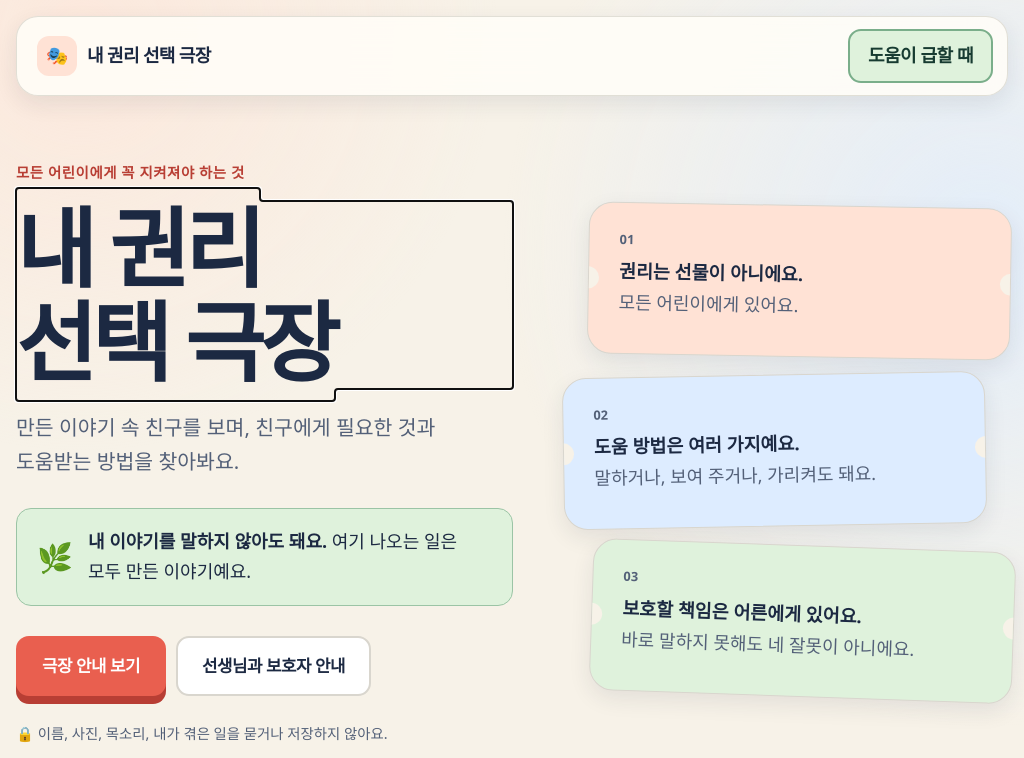
Test case: 초등 저학년 학생 사용성 › 쉬운 권리 이름과 네 개 이하의 도움 카드를 보여 준다
This screenshot has width=1024, height=758.
What coordinates should you click on to do the following:
click the button "극장 안내 보기"
I would click on:
 (91, 666)
Its box is x1=16 y1=636 x2=166 y2=696.
(page scrolled)
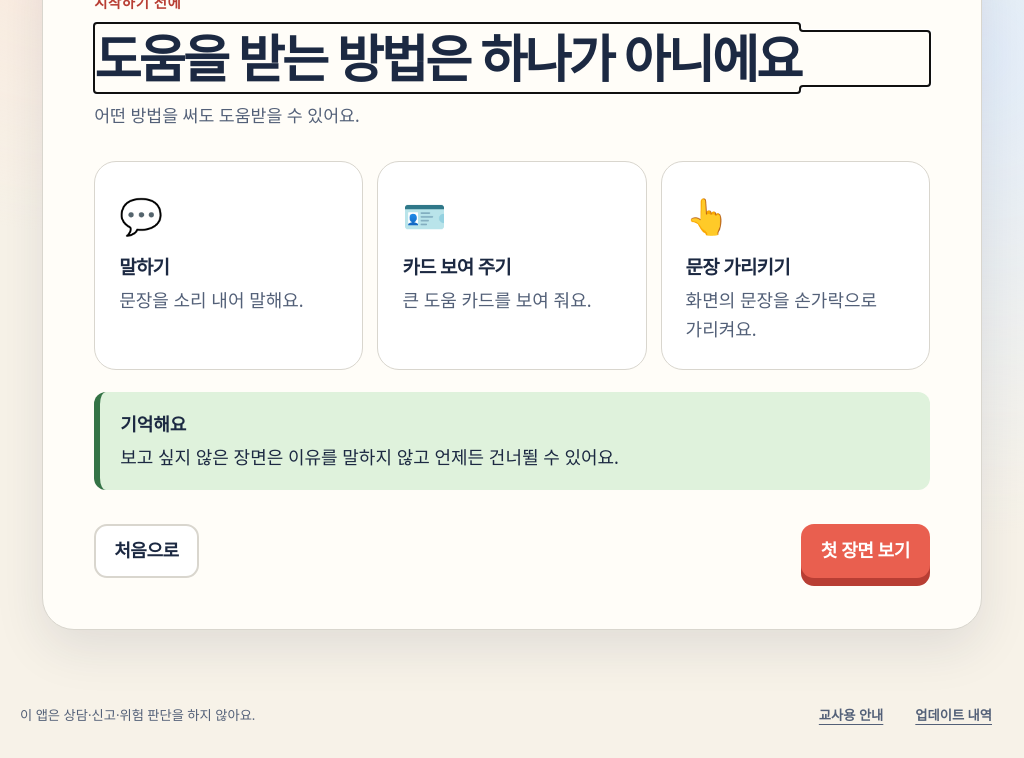
What coordinates should you click on to do the following:
click the button "첫 장면 보기"
I would click on:
 (865, 551)
Its box is x1=801 y1=524 x2=930 y2=578.
(page scrolled)
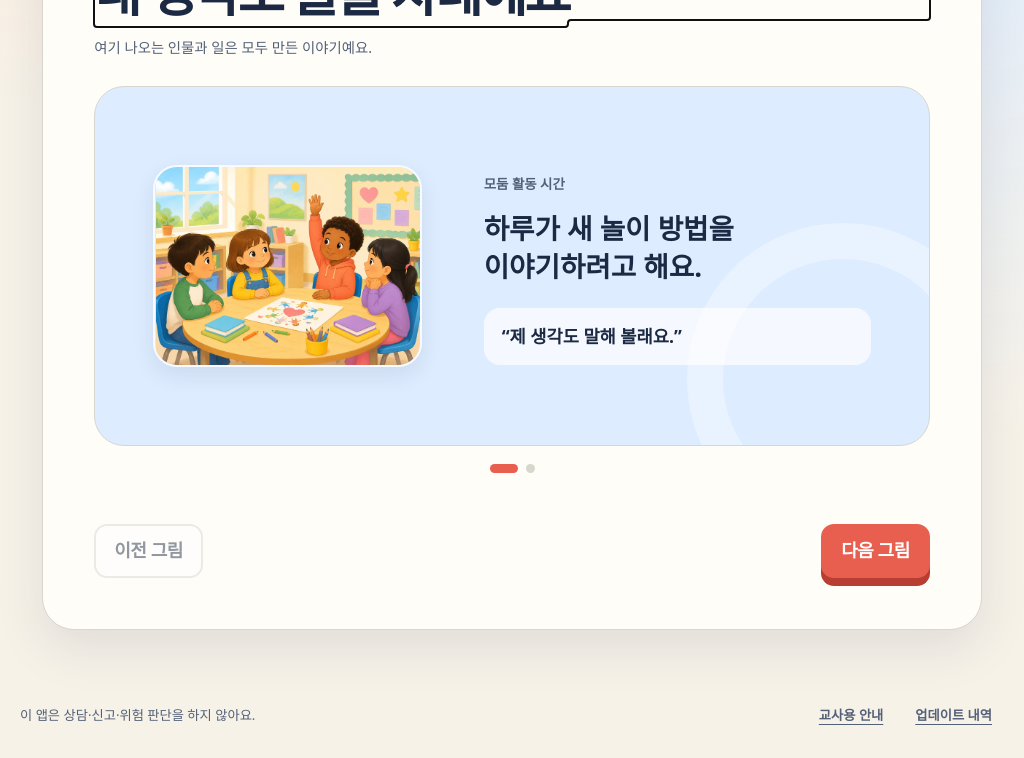
What coordinates should you click on to do the following:
click the button "다음 그림"
I would click on:
 (875, 551)
Its box is x1=821 y1=524 x2=930 y2=578.
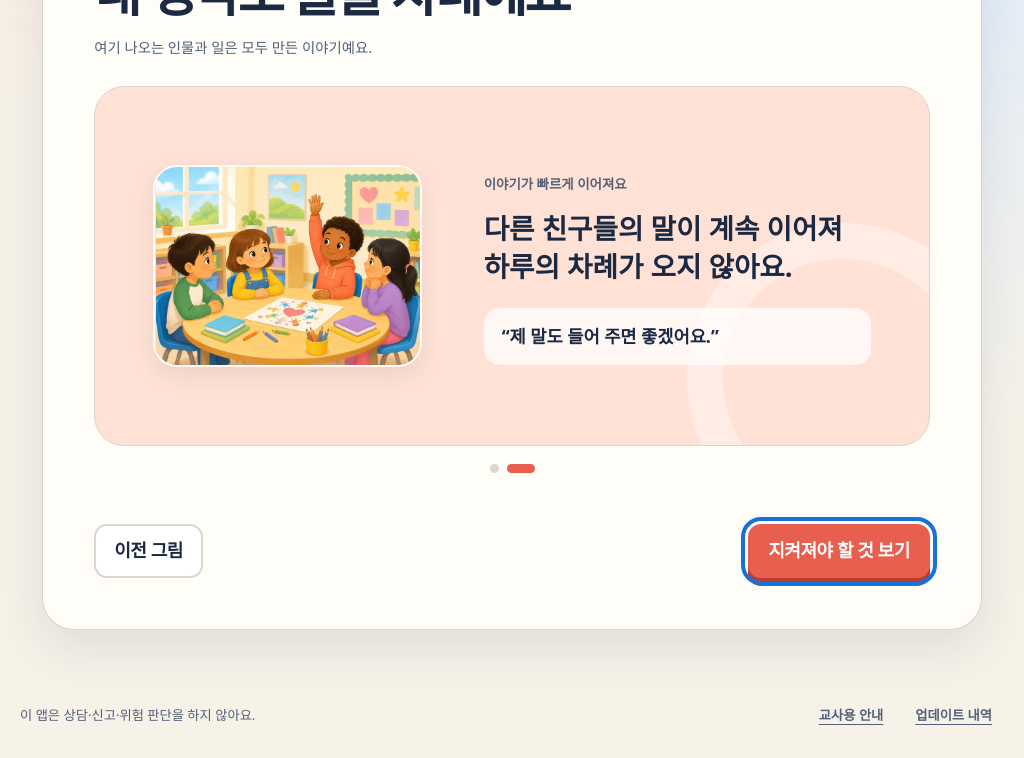
What coordinates should you click on to do the following:
click the button "지켜져야 할 것 보기"
I would click on:
 (839, 551)
Its box is x1=748 y1=524 x2=930 y2=578.
(page scrolled)
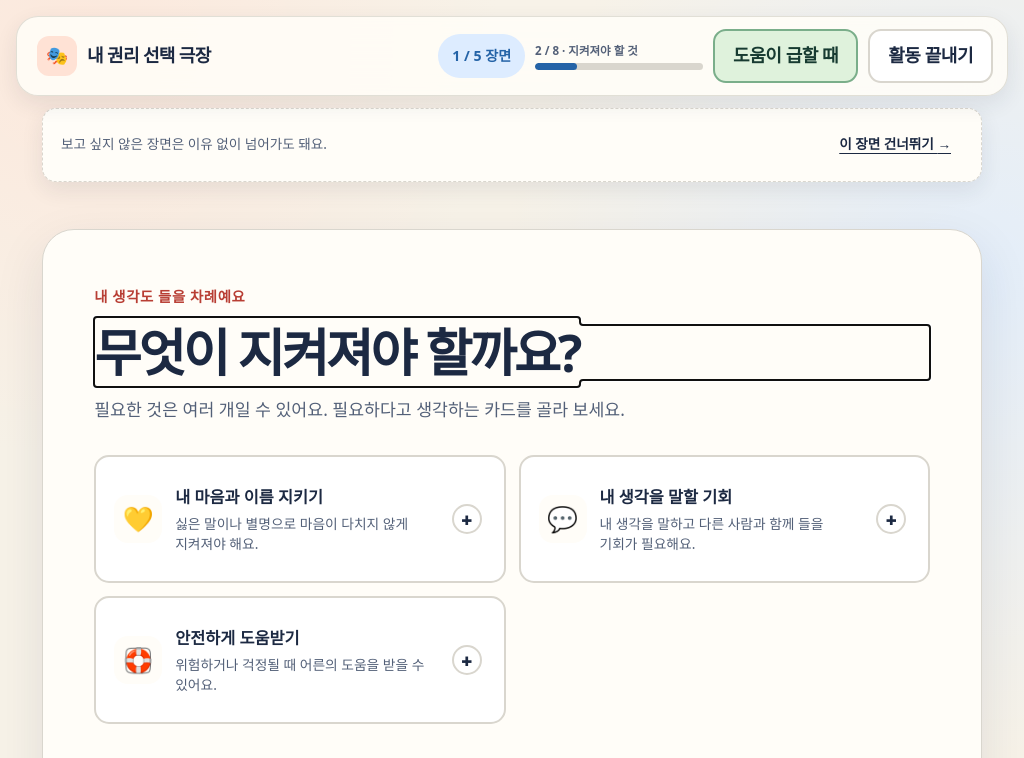
Now the button "💛 내 마음과 이름 지키기 싫은 말이나 별명으로 마음이 다치지 않게 지켜져야 해요. +" is shown, box x1=94 y1=455 x2=506 y2=583
Now the button "🛟 안전하게 도움받기 위험하거나 걱정될 때 어른의 도움을 받을 수 있어요. +" is shown, box x1=94 y1=596 x2=506 y2=724
What coordinates should you click on to do the following:
click the button "💬 내 생각을 말할 기회 내 생각을 말하고 다른 사람과 함께 들을 기회가 필요해요. +"
I would click on:
 (724, 519)
Its box is x1=518 y1=455 x2=930 y2=583.
(page scrolled)
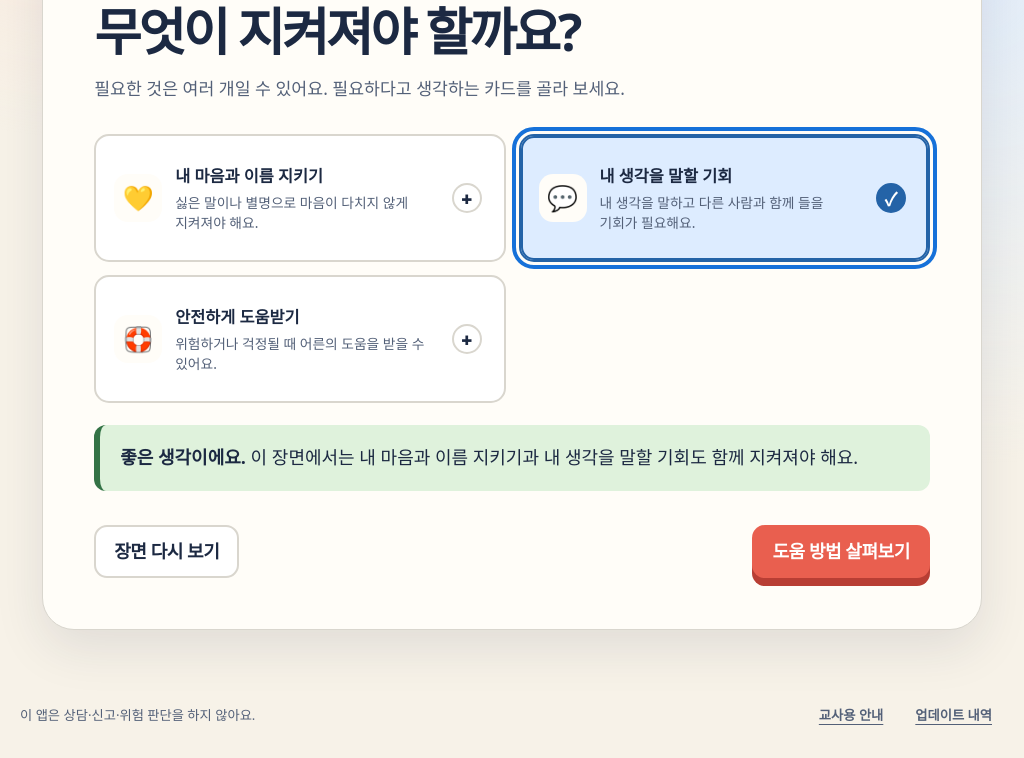
What coordinates should you click on to do the following:
click the button "도움 방법 살펴보기"
I would click on:
 (841, 551)
Its box is x1=752 y1=525 x2=930 y2=578.
(page scrolled)
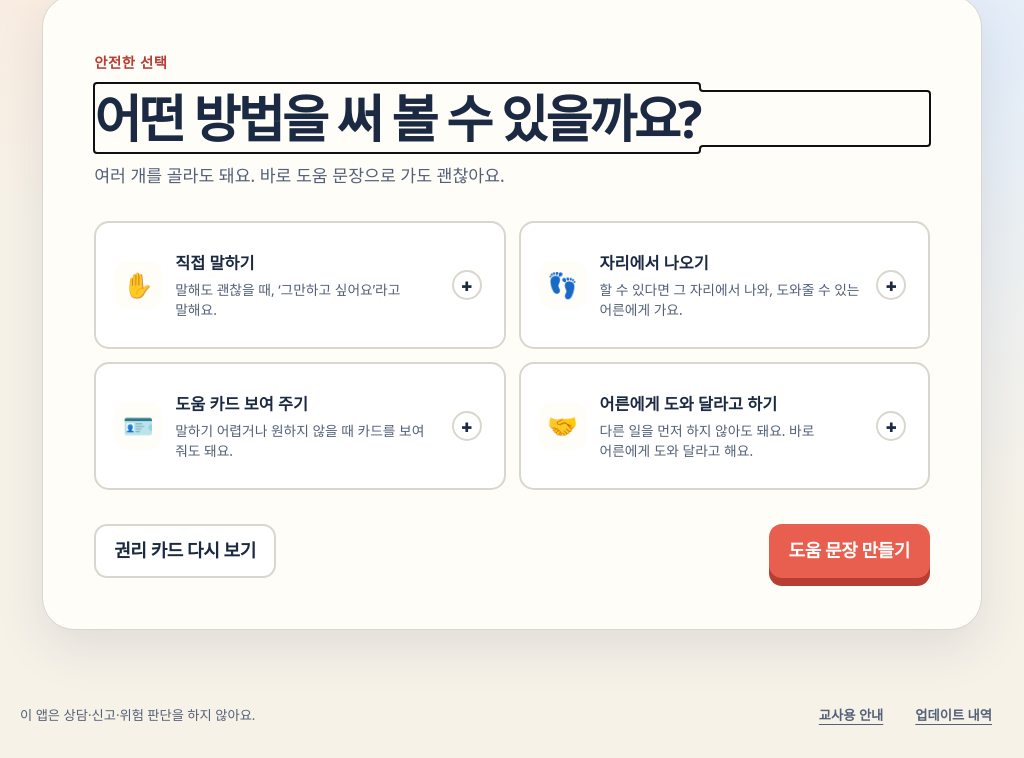
Now the number of buttons with class "choice-card" is 4, box x1=94 y1=221 x2=506 y2=349; x1=518 y1=221 x2=930 y2=349; x1=94 y1=362 x2=506 y2=490; x1=518 y1=362 x2=930 y2=490
Now the button "👣 자리에서 나오기 할 수 있다면 그 자리에서 나와, 도와줄 수 있는 어른에게 가요. +" is shown, box x1=518 y1=221 x2=930 y2=349
Now the button "🤝 어른에게 도와 달라고 하기 다른 일을 먼저 하지 않아도 돼요. 바로 어른에게 도와 달라고 해요. +" is shown, box x1=518 y1=362 x2=930 y2=490
